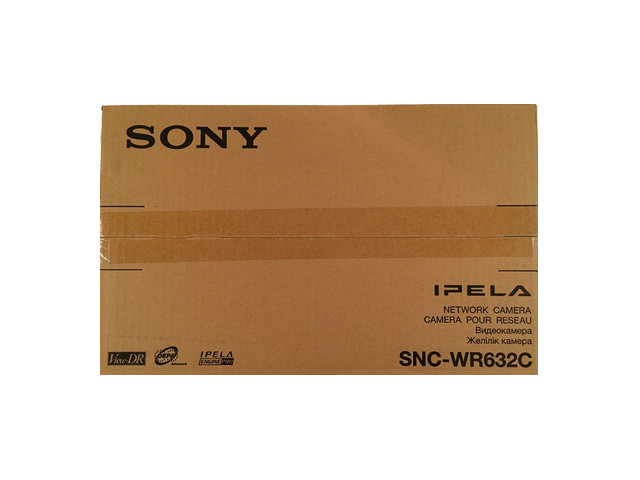cardboard: (101, 106, 535, 372)
